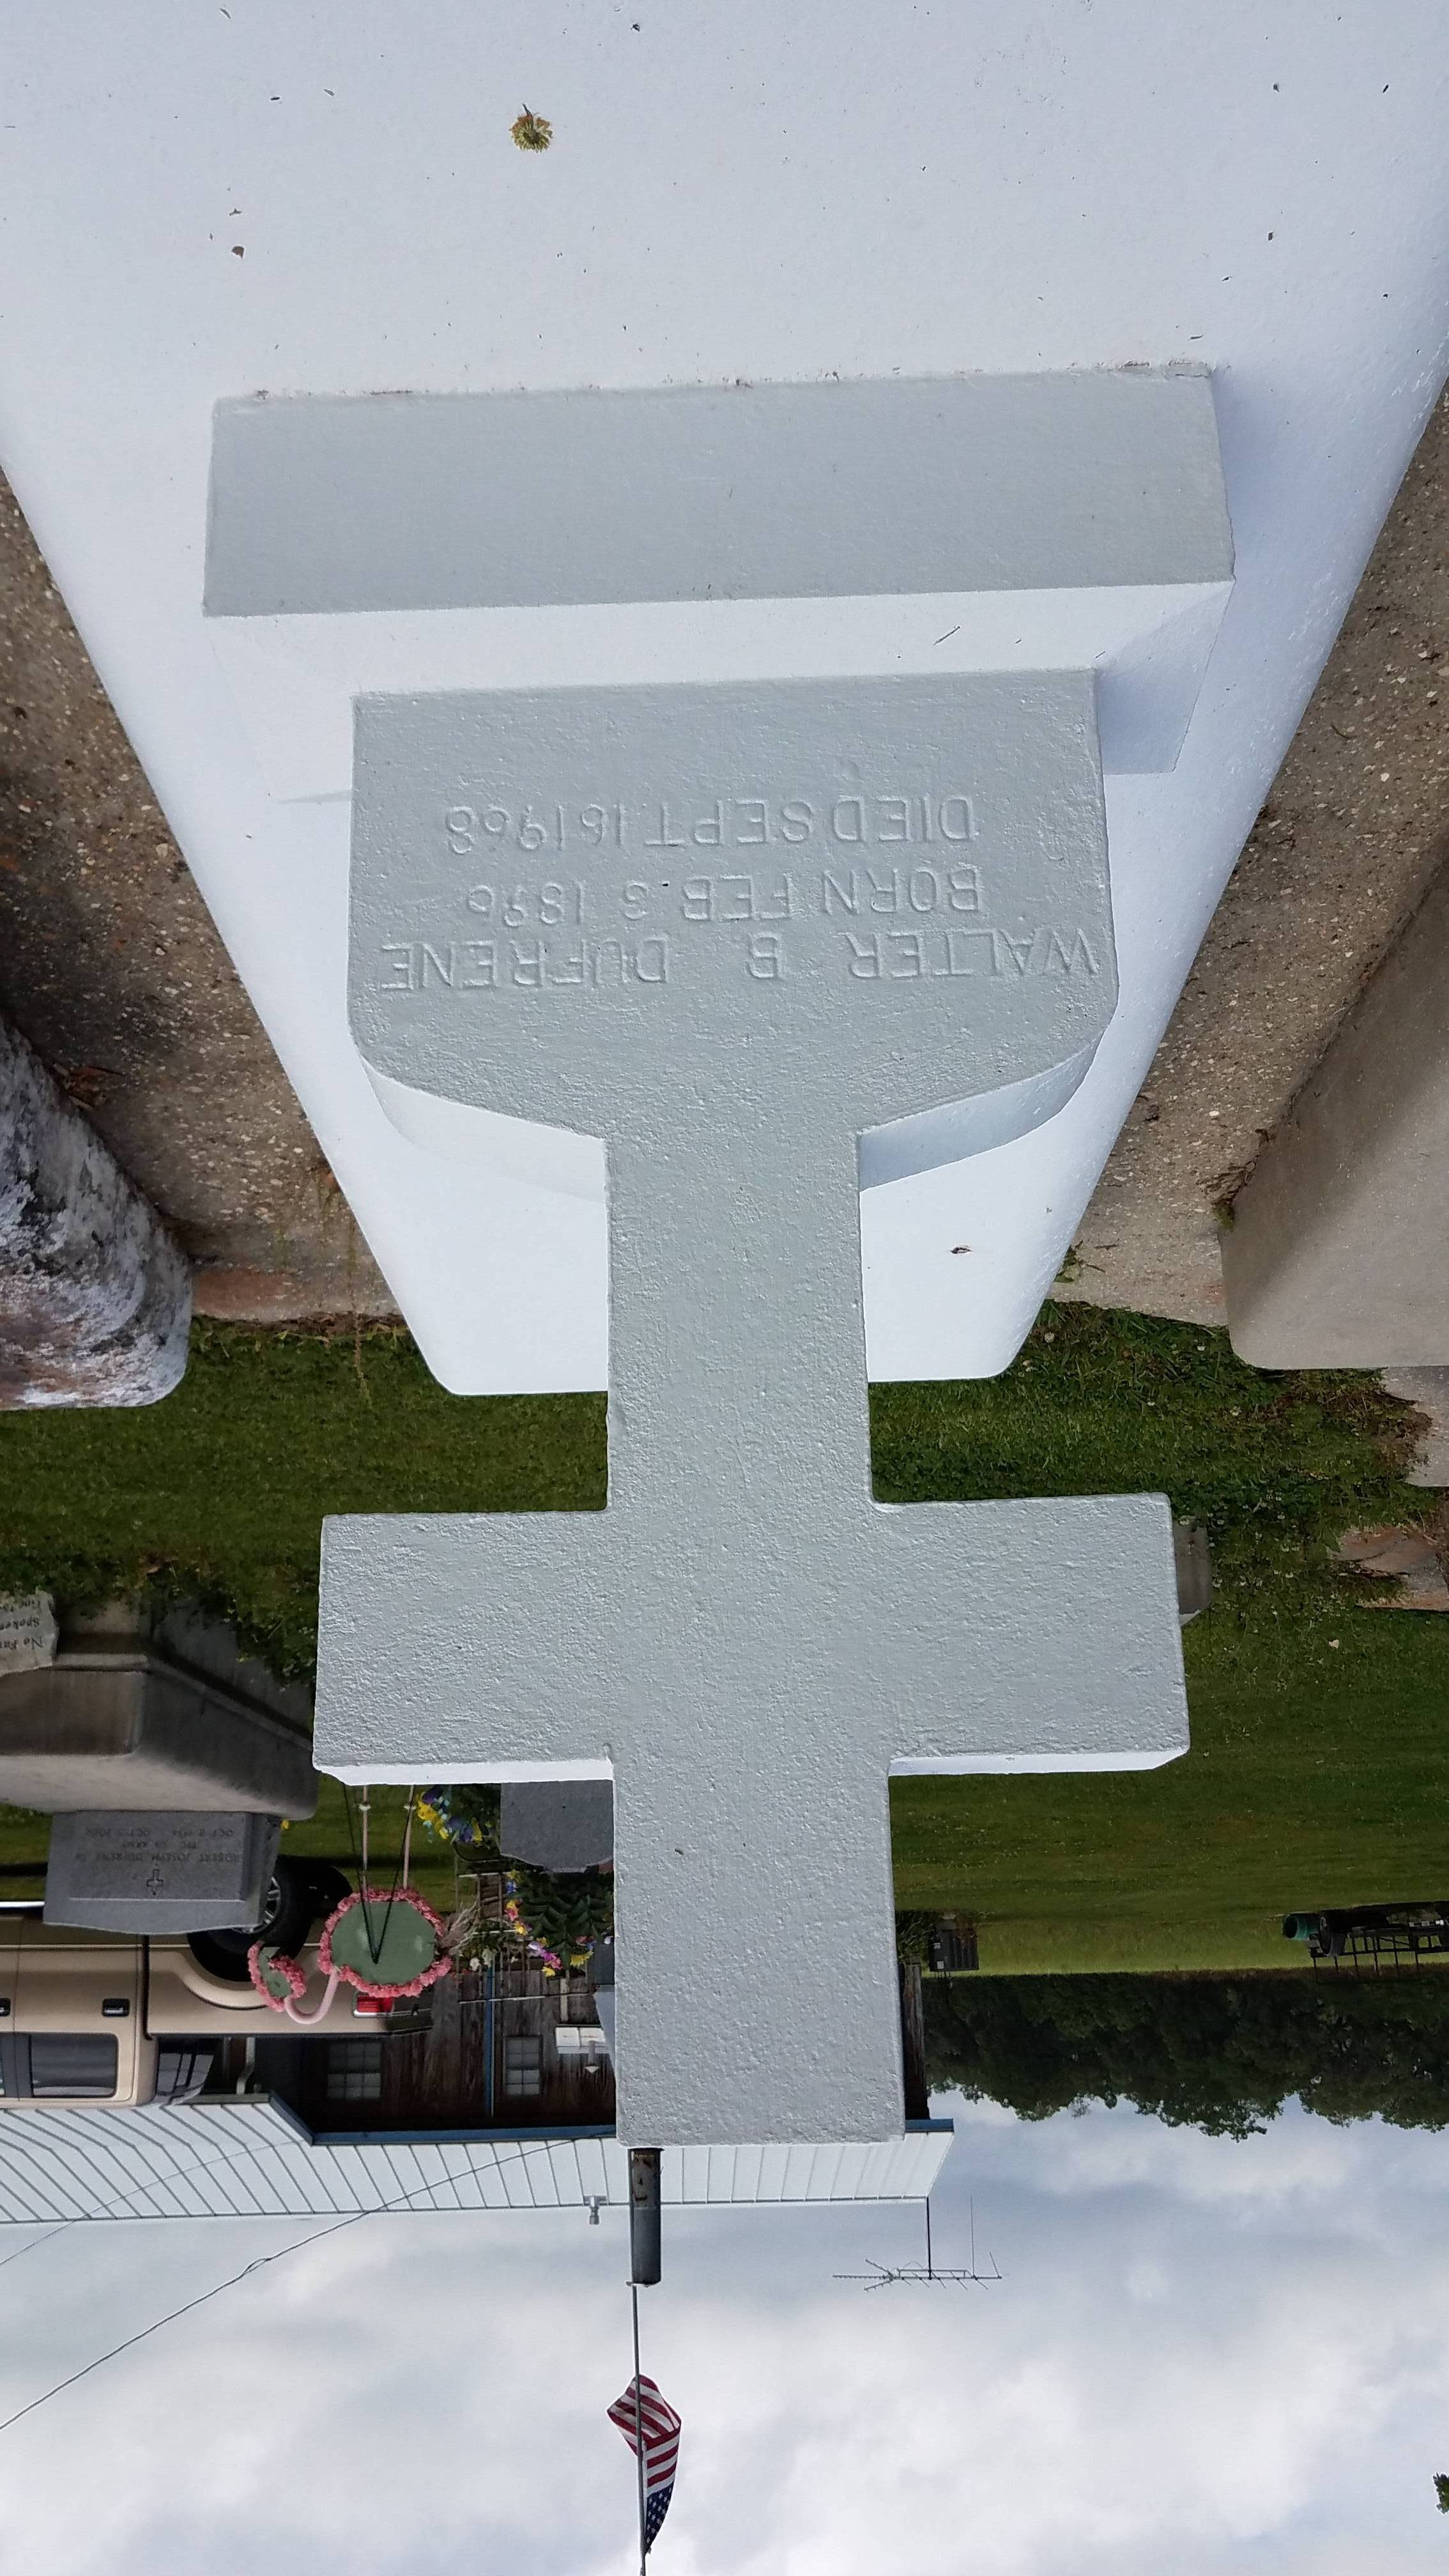vault: (0, 426, 1449, 2576)
